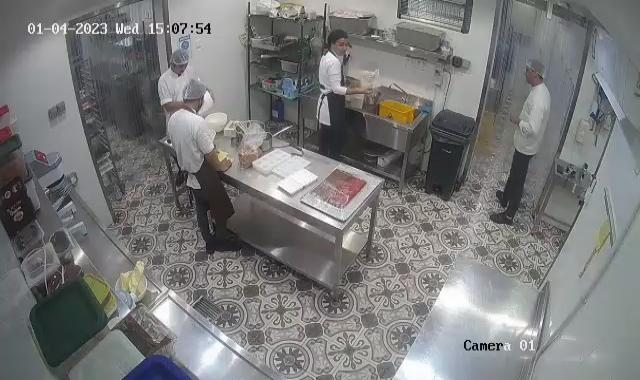hairnet: (183, 78, 208, 104), (526, 58, 546, 79), (168, 50, 190, 68)
no_hairnet: (324, 28, 351, 47)
